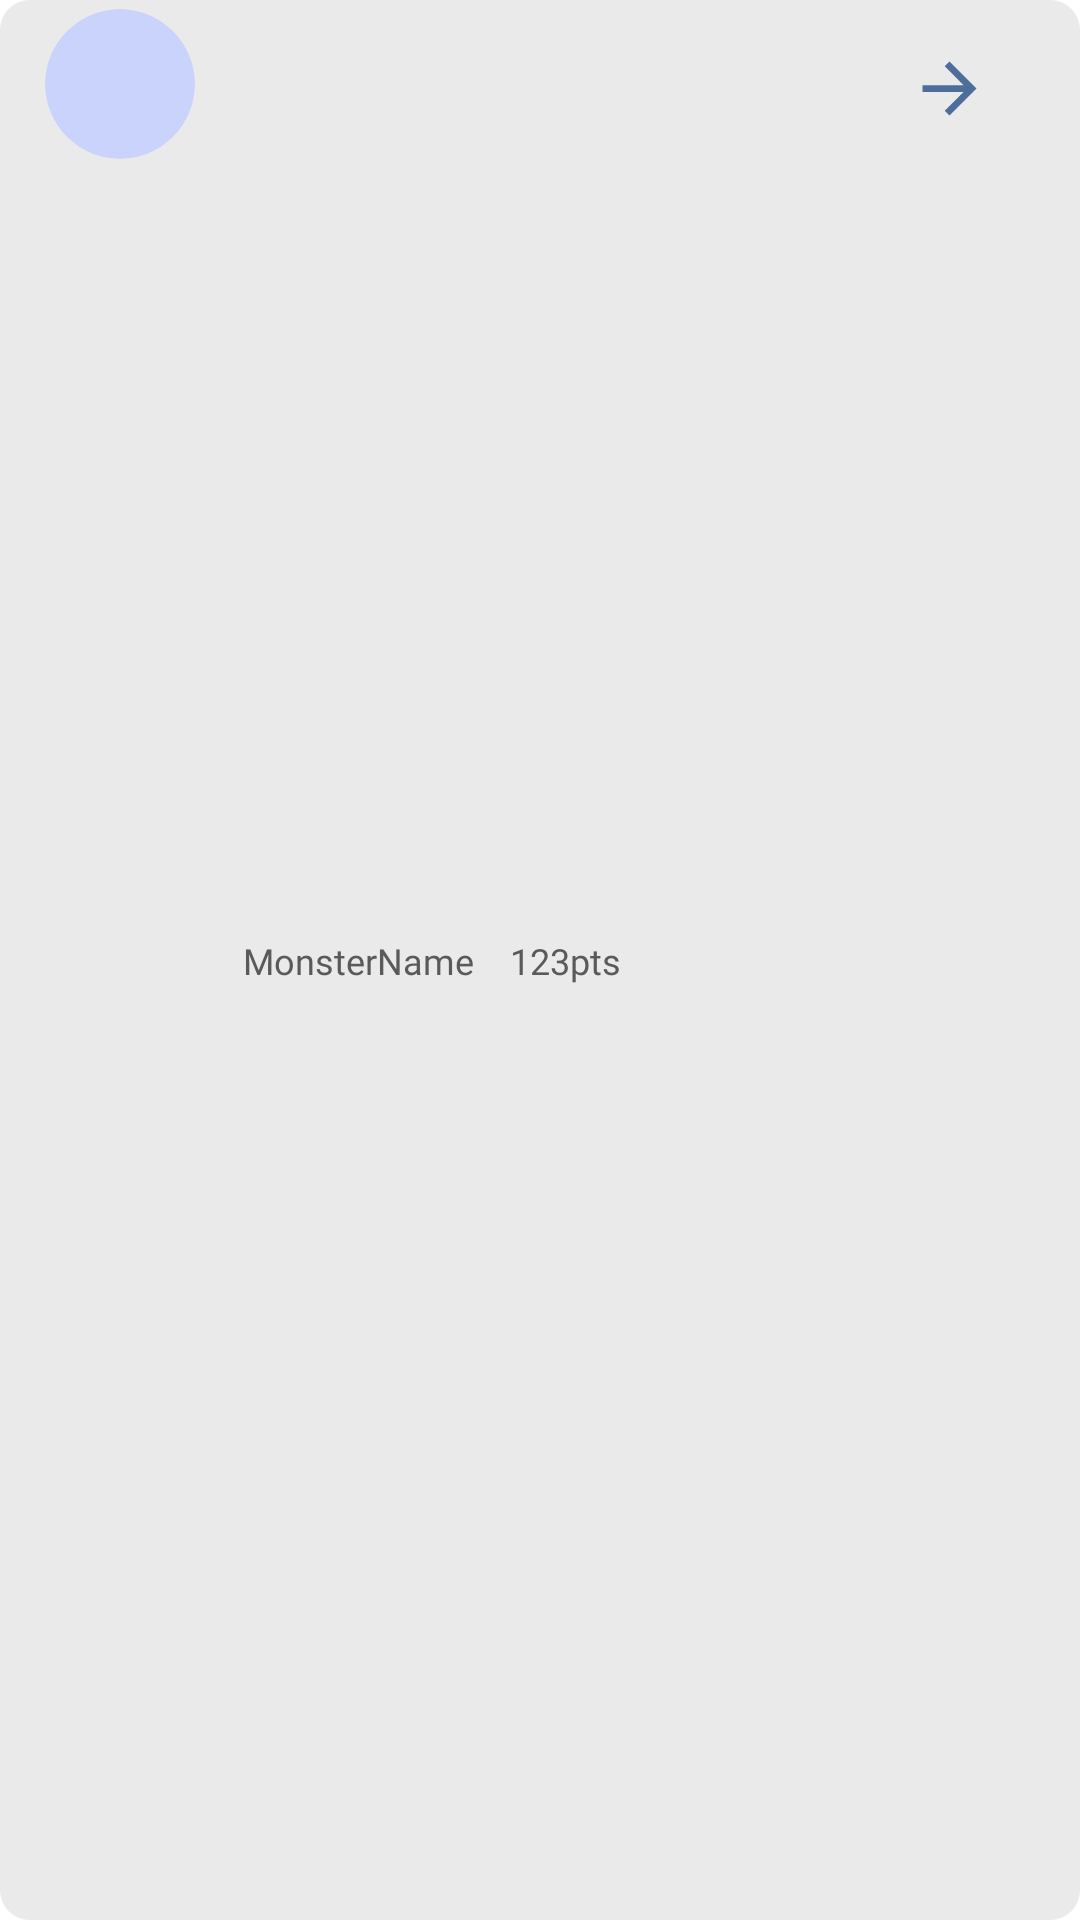

Icons on this 1080*1920 Android screen, each with its box as (x1, y1, x2, y2):
arrow forward: (922, 61, 977, 116)
